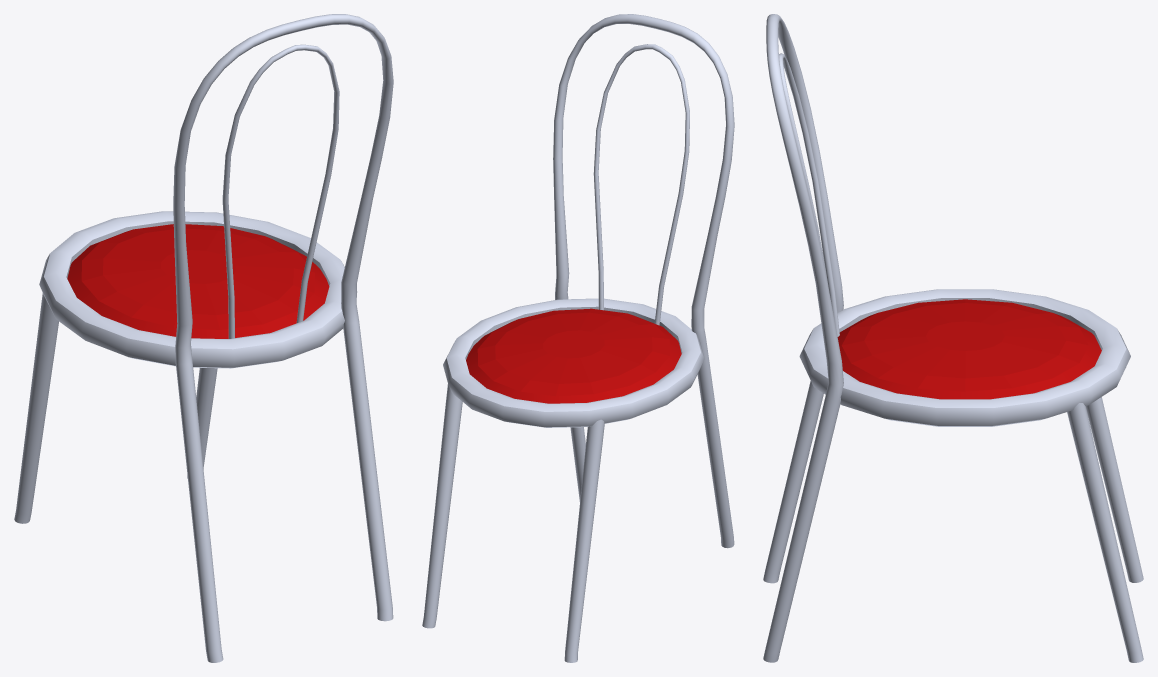
Rendered from SM_chair_light_01.fbx.
The picture shows the model from 3 angles, left to right: view 1: azimuth 30°, elevation 25°; view 2: azimuth 150°, elevation 25°; view 3: azimuth 270°, elevation 25°; orthographic projection. The views are drawn at different scales.
Parts seen in each view (by area): view 1: chair_light_01; view 2: chair_light_01; view 3: chair_light_01.
Boxes of the visible parts, box(x1,y1,x2,y2) form: chair_light_01: box(14, 14, 393, 662); chair_light_01: box(422, 14, 734, 662); chair_light_01: box(763, 14, 1143, 662).
Bounding box in the file's own units: 47.88 × 108 × 63.01.
